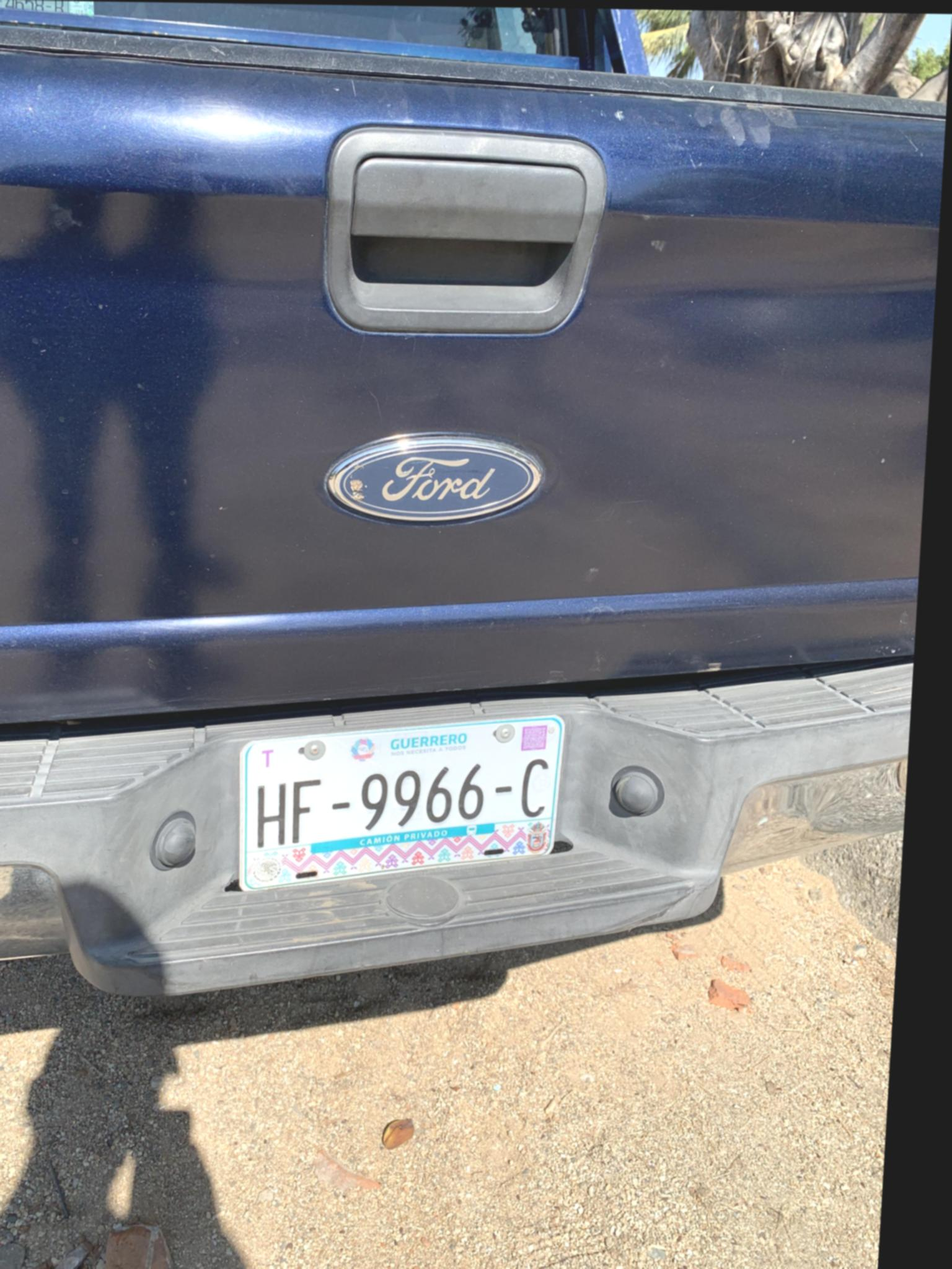License_Plate: (204, 706, 591, 910)
